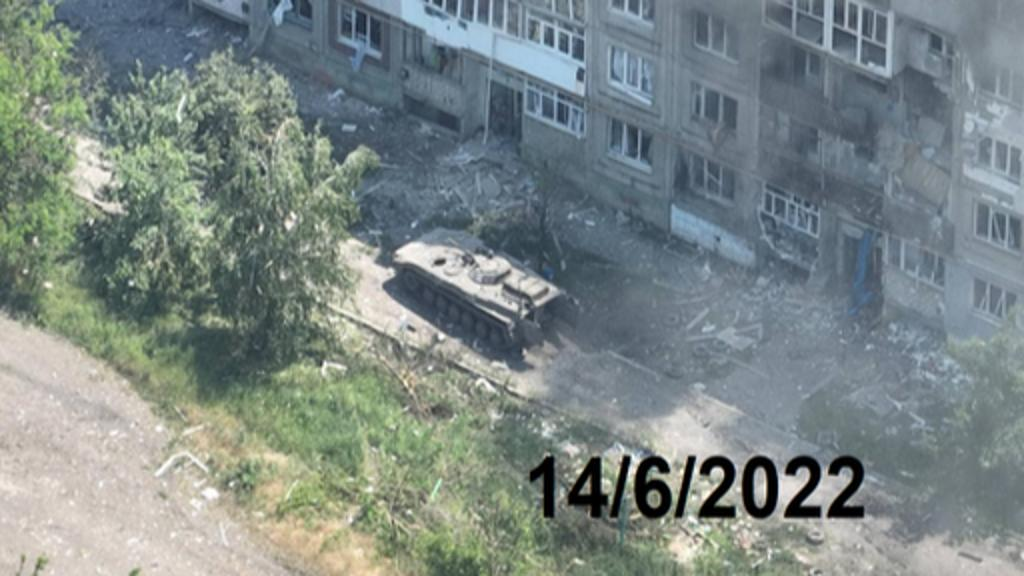APC-IFV: (392, 218, 572, 348)
